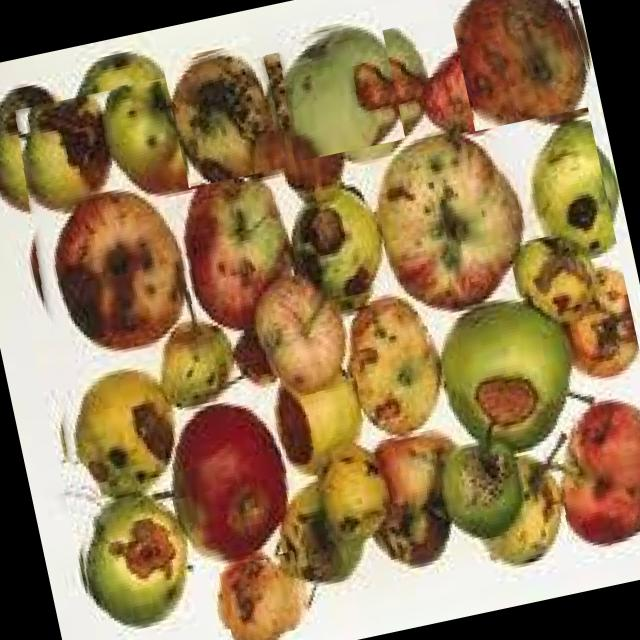Organic: (0, 0, 640, 640), (266, 13, 404, 162), (444, 0, 599, 130), (160, 36, 289, 186), (216, 548, 315, 640)
